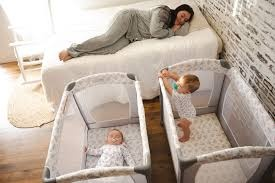baby: (159, 69, 199, 141), (85, 129, 134, 166)
crib: (159, 59, 274, 182), (43, 72, 150, 182)
